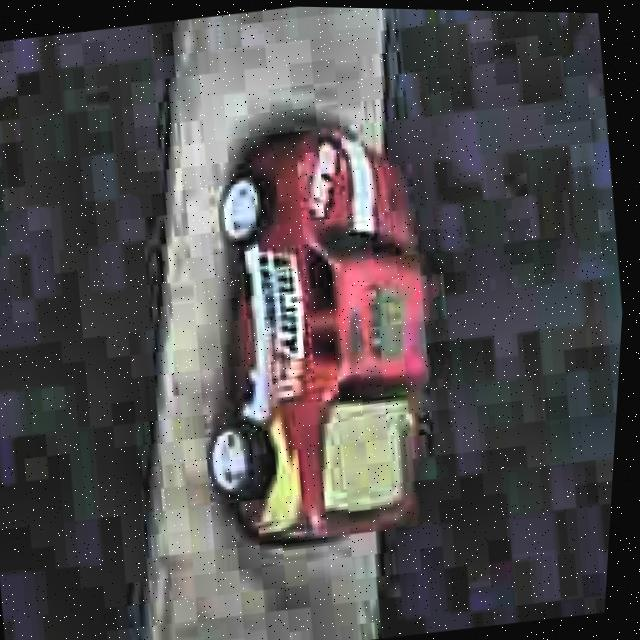car: (152, 109, 475, 565)
